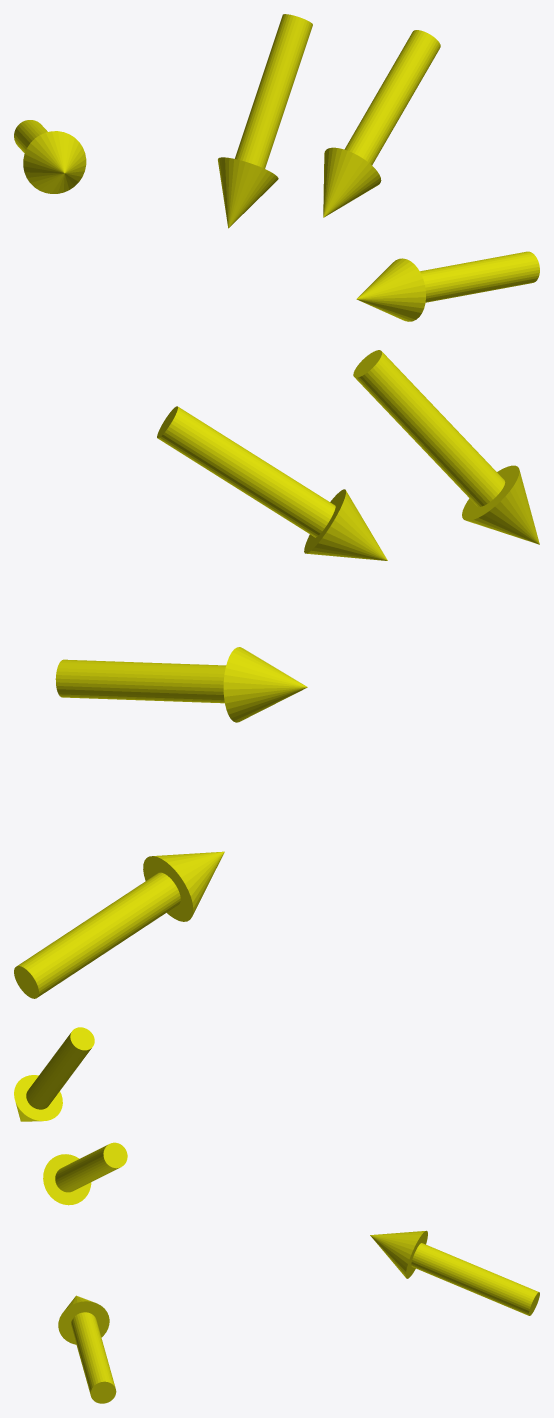
File: forcemap.glb
The picture shows the model from 3 angles, top to bottom: view 1: azimuth 30°, elevation 25°; view 2: azimuth 150°, elevation 25°; view 3: azimuth 270°, elevation 25°; orthographic projection. The views are drawn at different scales.
Visible parts, largest first — view 1: world; view 2: world; view 3: world.
Part boxes in pixels (x1,y1,x2,y2): world: [14, 14, 539, 321]; world: [14, 350, 539, 998]; world: [14, 1027, 539, 1403].
Bounding box in the file's own units: 0.0512 × 0.0475 × 0.0809.
